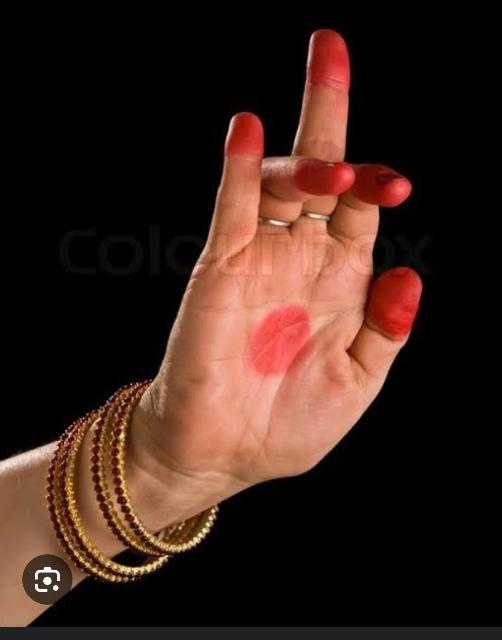shuktund: (166, 29, 423, 479)
